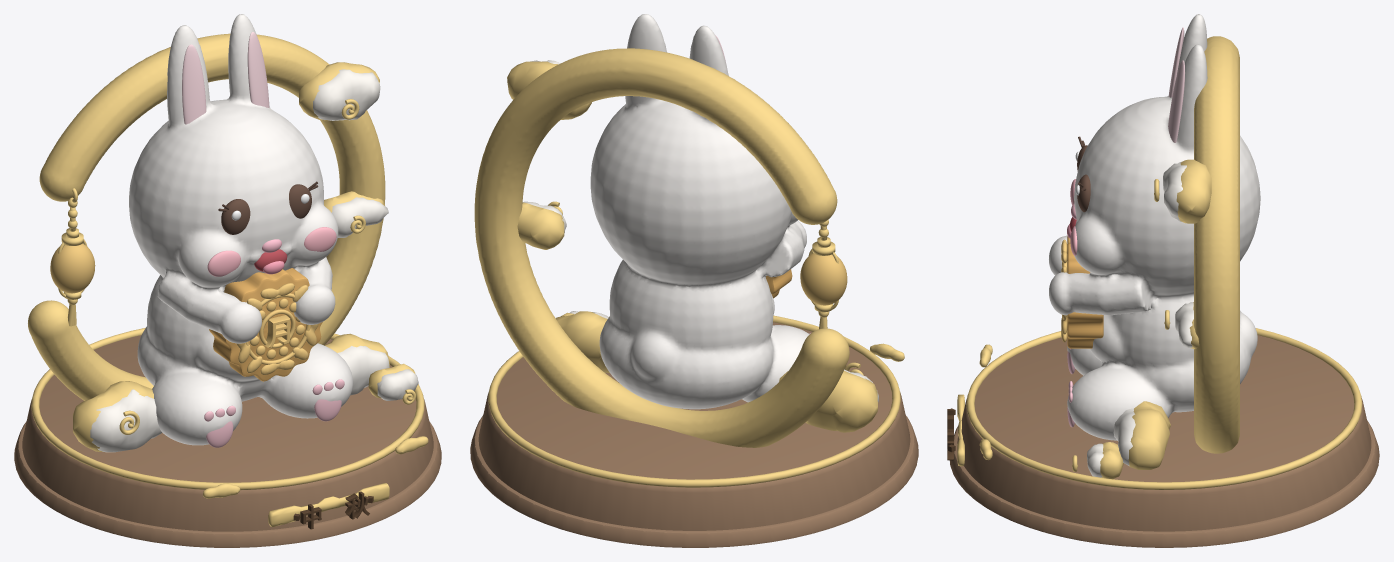
File: yutu_v3.glb
The picture shows the model from 3 angles, left to right: view 1: azimuth 30°, elevation 25°; view 2: azimuth 150°, elevation 25°; view 3: azimuth 270°, elevation 25°; orthographic projection. The views are drawn at different scales.
Parts seen in each view (by area): view 1: 玉兔主体, 底座, 月环, 底线脚, 底座金箍, 月饼, 左坐地云_白身, 右上贴环云_白身, 左坐地云_金边, 灯肚, 花瓣环, 左耳内耳 (+14 smaller); view 2: 玉兔主体, 月环, 底座, 底线脚, 底座金箍, 左坐地云_金边, 灯肚, 右中拖尾云_金边, 右坐地云_金边, 右上贴环云_金边; view 3: 底座, 玉兔主体, 月环, 底线脚, 底座金箍, 右坐地云_金边, 右上贴环云_金边, 月饼, 右上贴环云_白身, 右耳内耳, 右坐地云_白身, 右前小云_金边 (+1 smaller).
Part boxes in pixels (box(x1,y1,x2,y2)): 玉兔主体: box(129, 14, 353, 445); 底座: box(22, 335, 433, 531); 月环: box(28, 33, 385, 400); 底线脚: box(14, 421, 441, 547); 底座金箍: box(31, 327, 424, 490); 月饼: box(209, 268, 322, 381); 左坐地云_白身: box(90, 389, 162, 452); 右上贴环云_白身: box(313, 69, 380, 120); 左坐地云_金边: box(73, 381, 153, 451); 灯肚: box(50, 243, 95, 293); 花瓣环: box(236, 283, 318, 374); 左耳内耳: box(182, 44, 206, 124); 玉兔主体: box(590, 14, 809, 409); 月环: box(474, 48, 849, 447); 底座: box(478, 322, 910, 530); 底线脚: box(470, 415, 918, 547); 底座金箍: box(488, 315, 900, 487); 左坐地云_金边: box(779, 370, 877, 432); 灯肚: box(800, 253, 847, 305); 右中拖尾云_金边: box(517, 202, 564, 249); 右坐地云_金边: box(555, 311, 609, 372); 右上贴环云_金边: box(507, 61, 591, 119); 底座: box(957, 335, 1371, 531); 玉兔主体: box(1049, 14, 1260, 440); 月环: box(1194, 36, 1239, 453); 底线脚: box(949, 420, 1379, 547); 底座金箍: box(966, 328, 1362, 489); 右坐地云_金边: box(1128, 401, 1170, 469); 右上贴环云_金边: box(1176, 159, 1211, 223); 月饼: box(1067, 236, 1103, 348); 右上贴环云_白身: box(1163, 162, 1186, 221); 右耳内耳: box(1168, 60, 1185, 142); 右坐地云_白身: box(1113, 408, 1135, 465); 右前小云_金边: box(1100, 442, 1123, 479).
Bounding box in the file's own units: 73.69 × 81.16 × 74.
